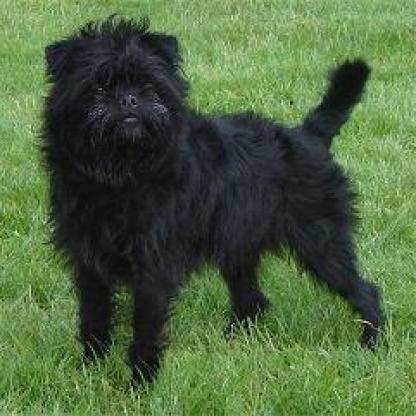affenpinscher: (29, 10, 387, 388)
